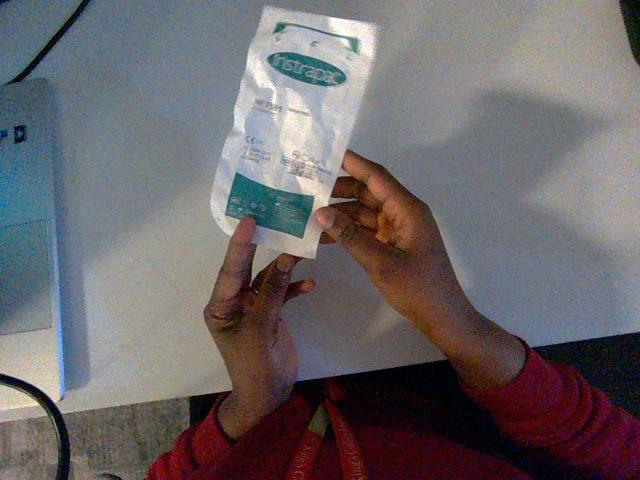gallipot: (211, 6, 375, 257)
